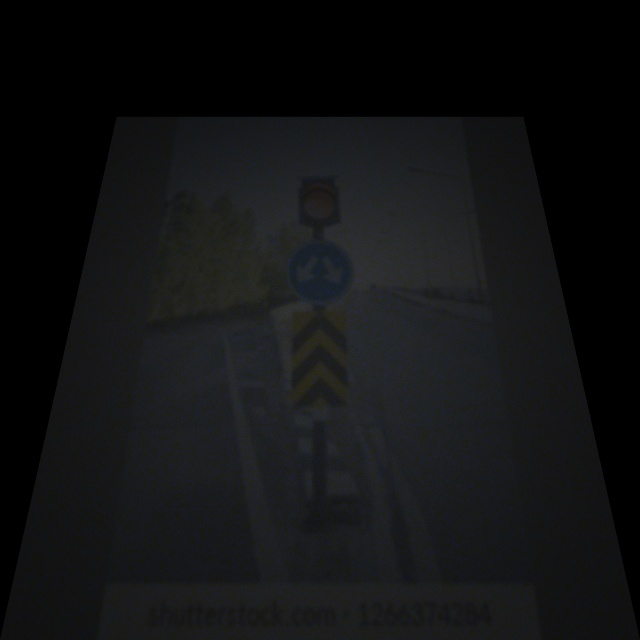Pass_Either_Side: (284, 239, 357, 304)
